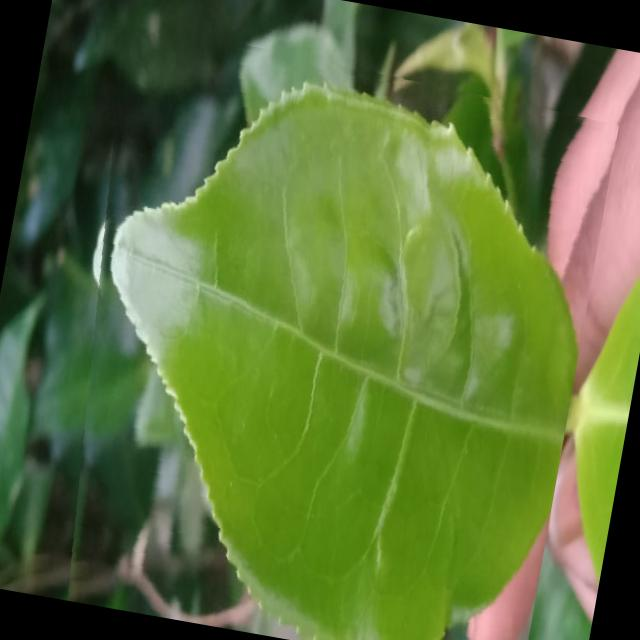Category B(2-4 days): (24, 17, 622, 640)
